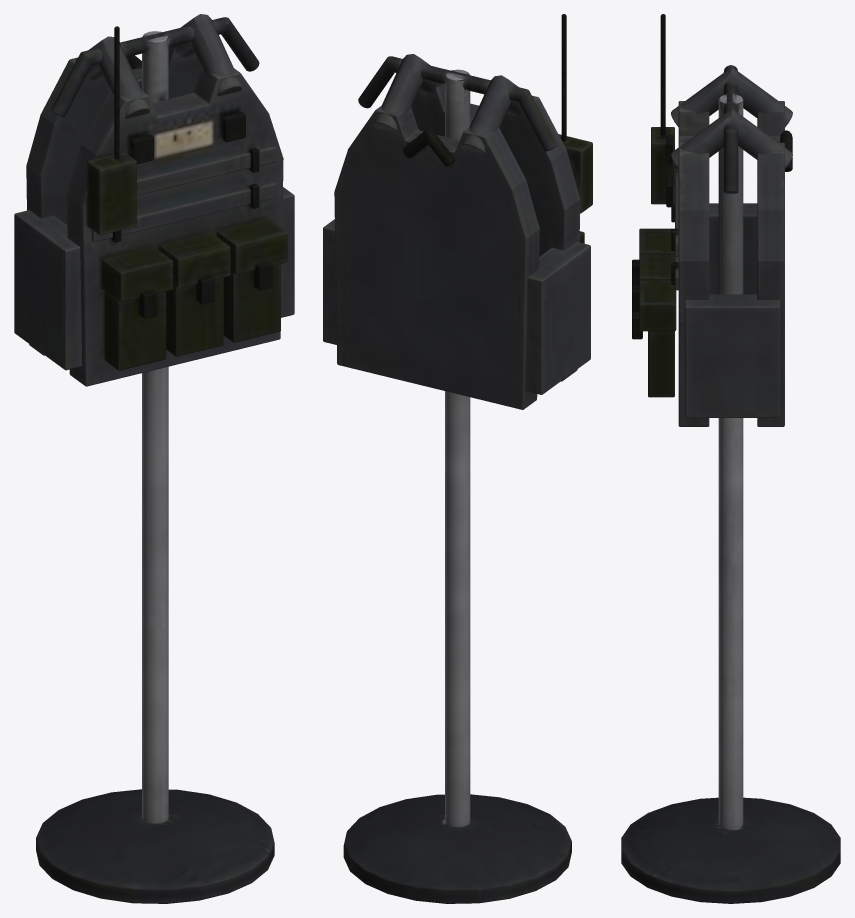
The model's file is armour_vest.glb.
3 renders of one model, left to right at view 1: azimuth 30°, elevation 25°; view 2: azimuth 150°, elevation 25°; view 3: azimuth 270°, elevation 25°, orthographic. The views are drawn at different scales.
Parts seen in each view (by area): view 1: armour_vest; view 2: armour_vest; view 3: armour_vest.
Boxes of the visible parts, left/top/right/bottom form: armour_vest: left=14, top=14, right=294, bottom=903; armour_vest: left=323, top=14, right=592, bottom=903; armour_vest: left=621, top=14, right=840, bottom=903.
Size of the model in its own units: 0.4 by 1.45 by 0.3563.
1 material, 1 textured.
